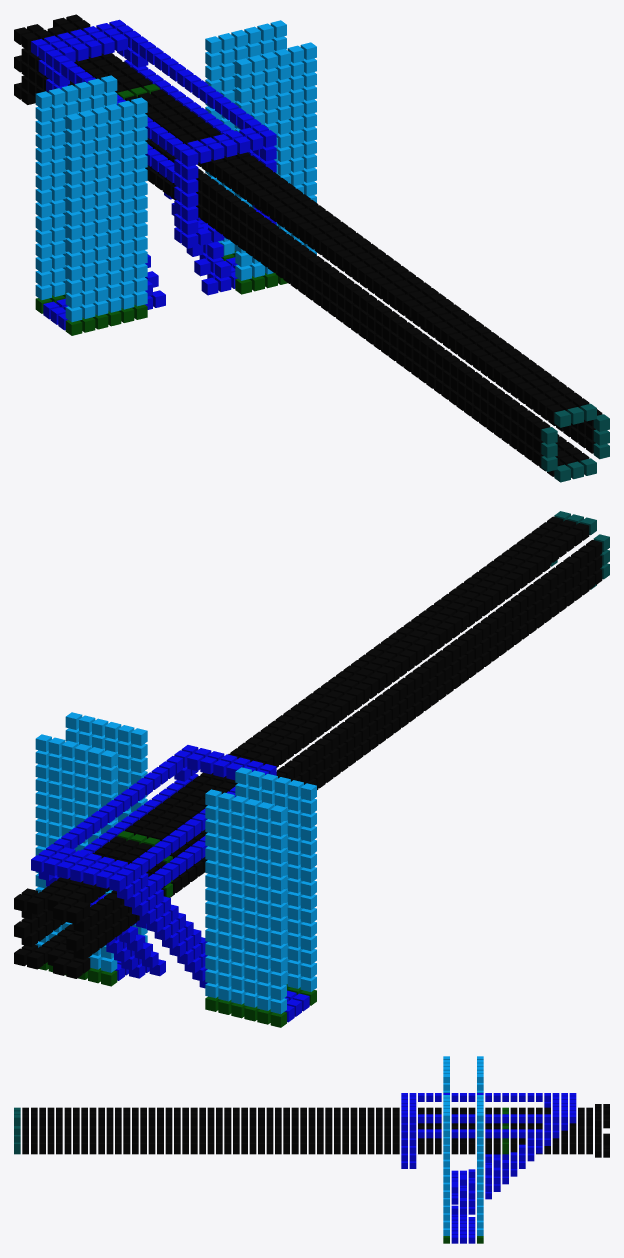
The model's file is cannon.cube.obj.
3 views of the same model, one above another, from view 1: azimuth 30°, elevation 25°; view 2: azimuth 150°, elevation 25°; view 3: azimuth 270°, elevation 25° (orthographic). The views are drawn at different scales.
Bounding box in the file's own units: 18.8 × 16.8 × 70.8.
Materials: 1 (1 with a texture image).
